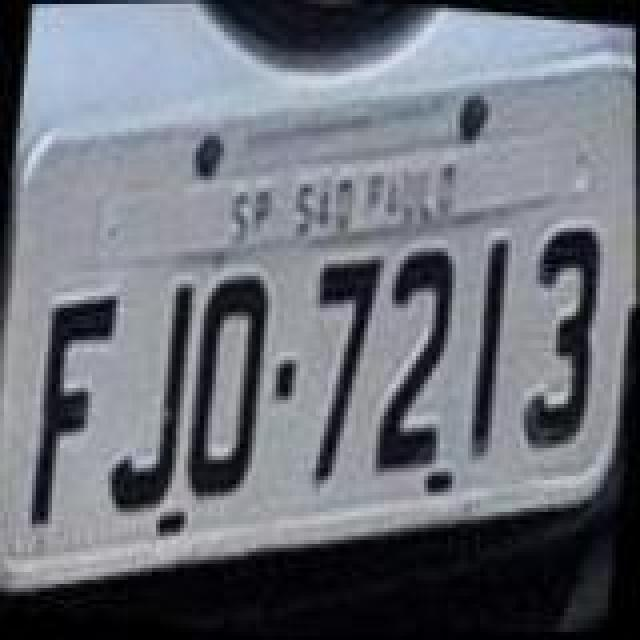1: (460, 234, 520, 466)
2: (364, 242, 464, 486)
3: (512, 216, 612, 456)
7: (288, 244, 388, 488)
F: (18, 286, 126, 538)
J: (102, 272, 202, 516)
O: (176, 262, 280, 506)
